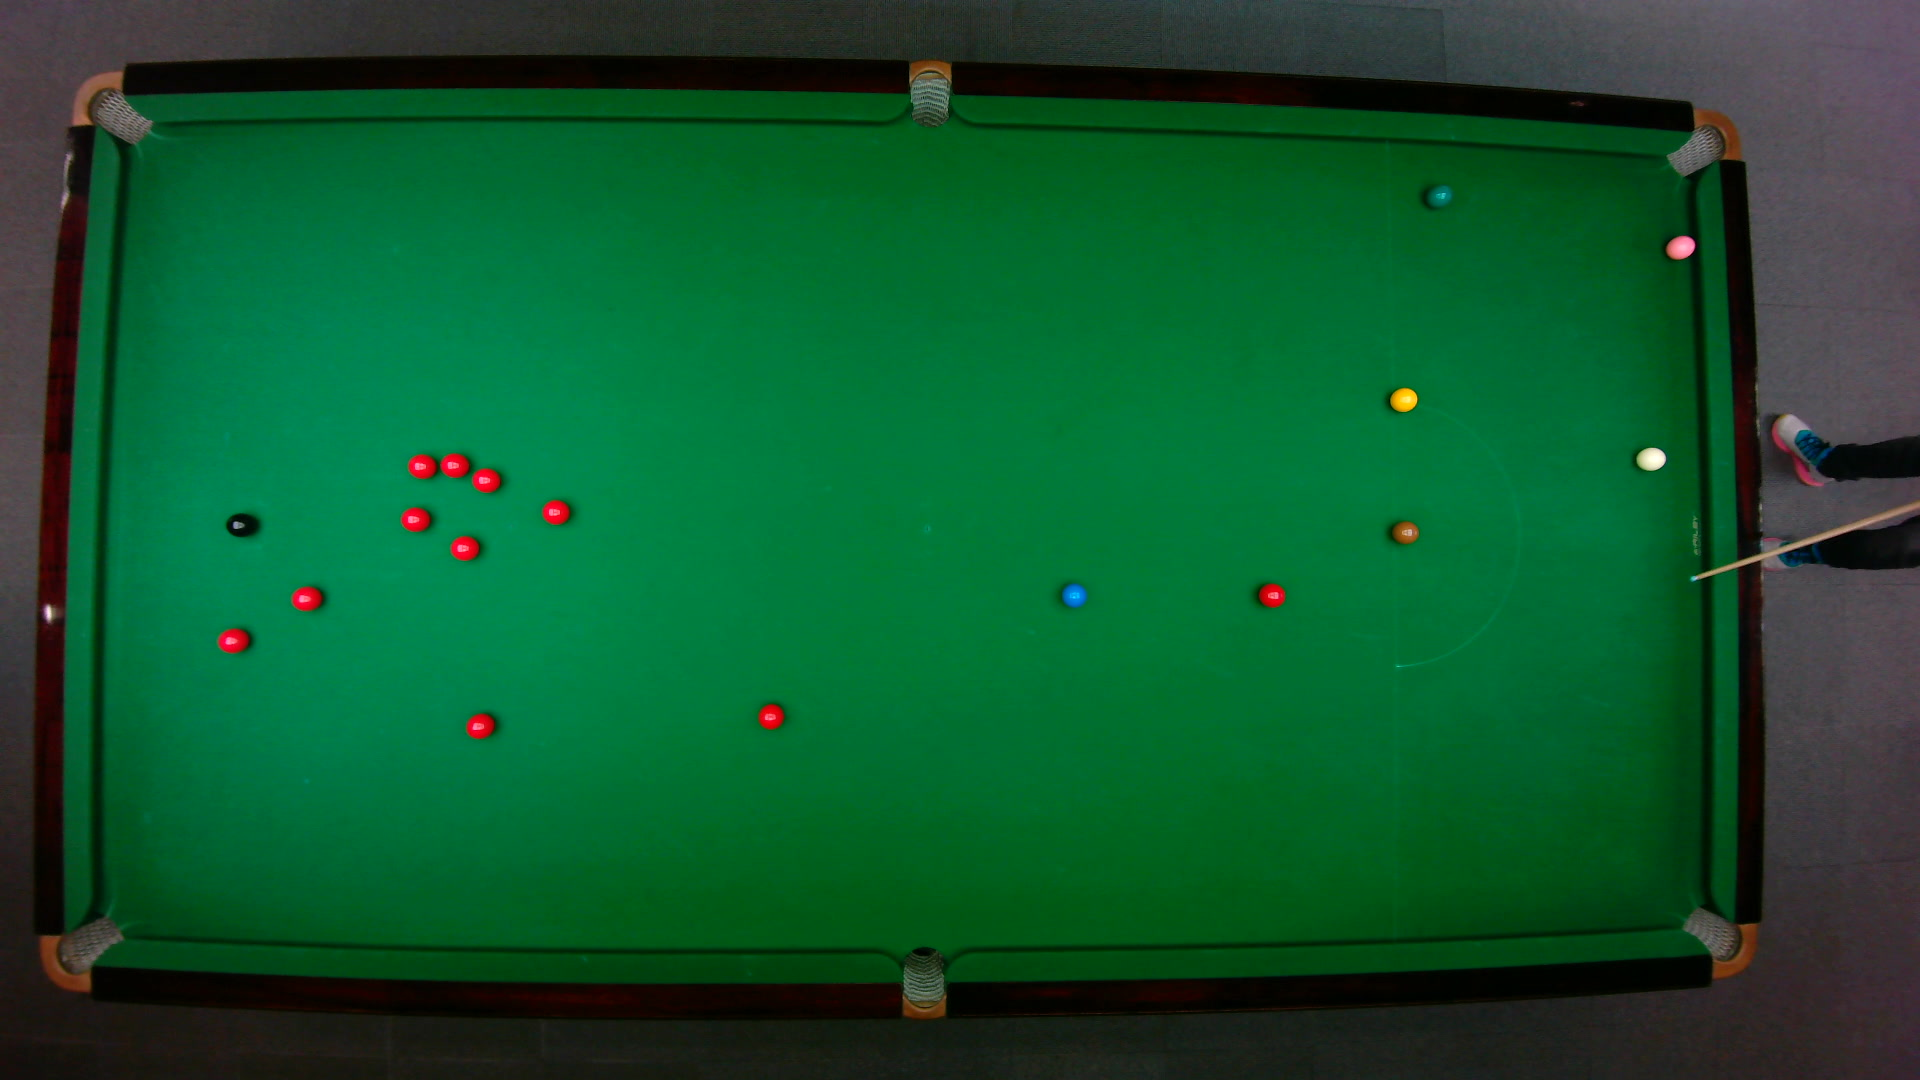bag: (37, 913, 125, 992), (69, 69, 152, 145), (1677, 905, 1756, 978), (1663, 107, 1741, 177), (901, 944, 944, 1021), (909, 57, 949, 128)
black: (224, 512, 256, 537)
blue: (1059, 582, 1088, 608)
brown: (1390, 520, 1419, 545)
cue: (1688, 498, 1920, 584)
green: (1423, 182, 1453, 208)
pink: (1663, 232, 1697, 260)
red: (215, 625, 251, 653), (289, 584, 323, 611), (464, 711, 496, 738), (448, 533, 480, 560), (469, 465, 501, 493), (398, 504, 430, 531), (756, 702, 785, 731), (439, 450, 469, 477), (405, 452, 436, 479), (541, 498, 570, 525), (1255, 582, 1286, 607)
white: (1634, 444, 1665, 469)
yellow: (1389, 385, 1419, 413)
zone: (1391, 401, 1520, 667)
